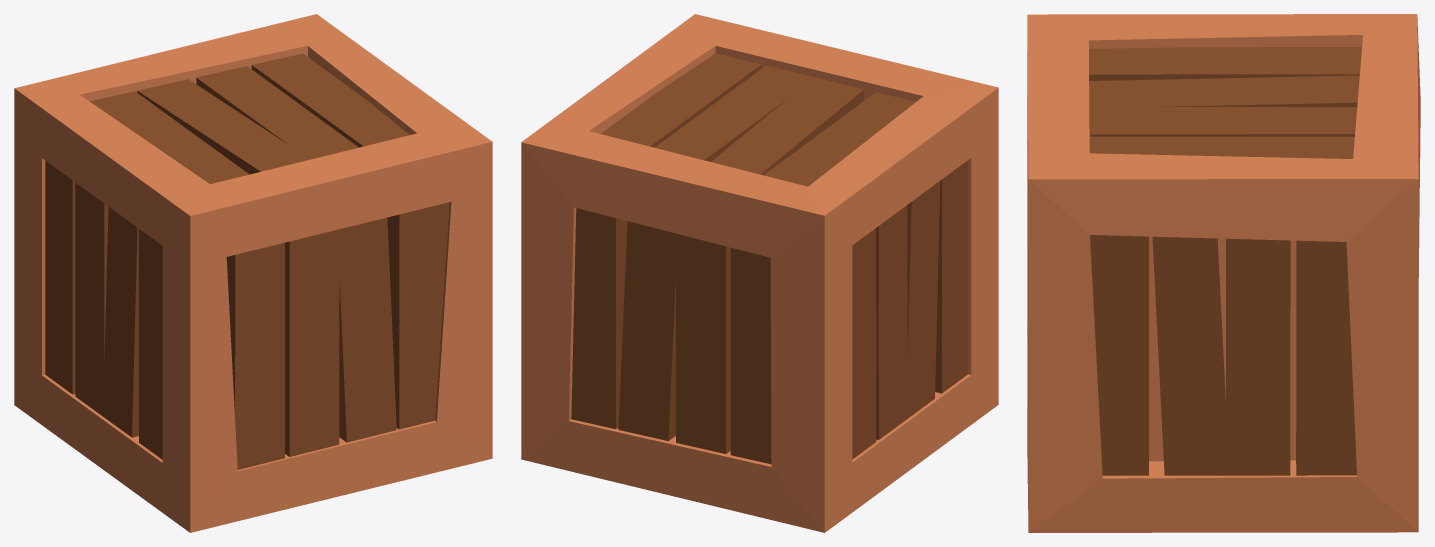
The model's file is Crate.fbx.
3 views of the same model, side by side, from view 1: azimuth 30°, elevation 25°; view 2: azimuth 150°, elevation 25°; view 3: azimuth 270°, elevation 25° (orthographic). The views are drawn at different scales.
Visible parts, largest first — view 1: Crate.003; view 2: Crate.003; view 3: Crate.003.
Boxes of the visible parts, box(x1,y1,x2,y2) form: Crate.003: box(14, 14, 492, 532); Crate.003: box(521, 14, 998, 532); Crate.003: box(1027, 14, 1420, 532).
Size of the model in its own units: 162 by 161 by 161.
